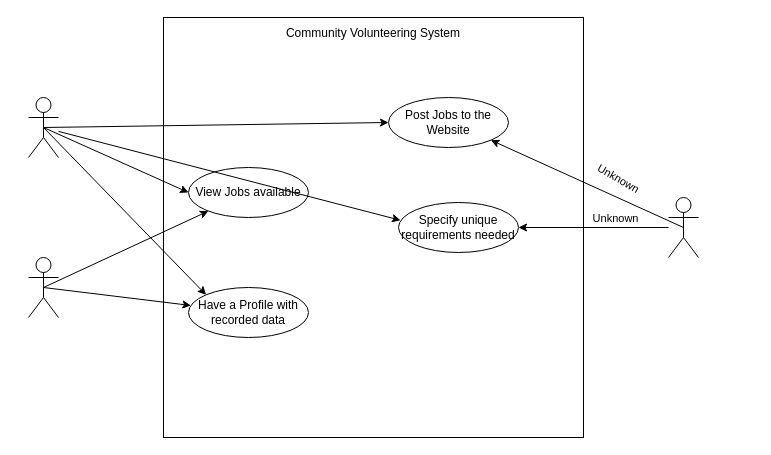
The diagram is 771 pixels wide and 455 high, and some of its shapes have lost their labels. The shapes that lost their labels are listed below. From the top down, each one's centre as x and y in pixels, then its label:
At (43,127): "Volunteer".
At (683,227): "Local Community Member".
At (43,287): "Organiser".
